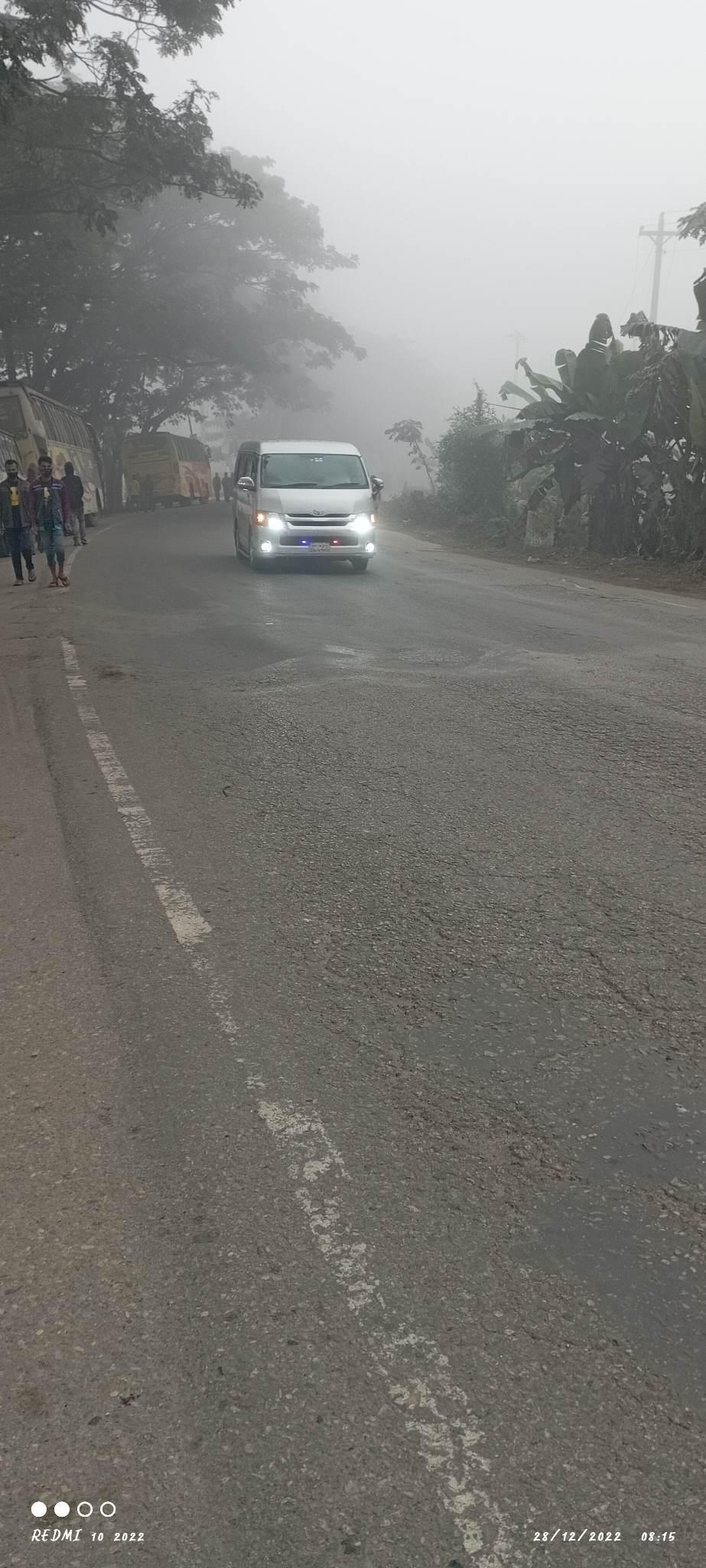Bus: (6, 367, 122, 553), (122, 416, 226, 524)
Car: (226, 427, 400, 588)
